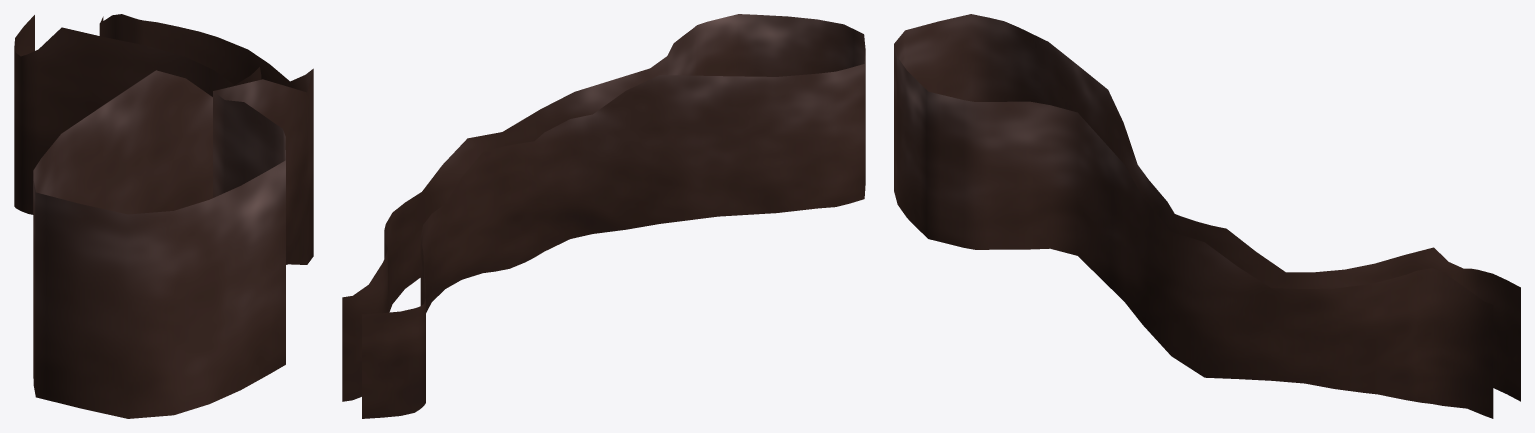
The model's file is Wall02.obj.
3 renders of one model, left to right at view 1: azimuth 30°, elevation 25°; view 2: azimuth 150°, elevation 25°; view 3: azimuth 270°, elevation 25°, orthographic. The views are drawn at different scales.
Parts seen in each view (by area): view 1: WallOneWay_Plane.002; view 2: WallOneWay_Plane.002; view 3: WallOneWay_Plane.002.
Boxes of the visible parts, bbox=[...] form: WallOneWay_Plane.002: bbox=[14, 14, 313, 418]; WallOneWay_Plane.002: bbox=[342, 14, 865, 418]; WallOneWay_Plane.002: bbox=[894, 14, 1520, 418].
Size of the model in its own units: 23.21 by 16.79 by 37.57.
Materials: 1 (1 with a texture image).
